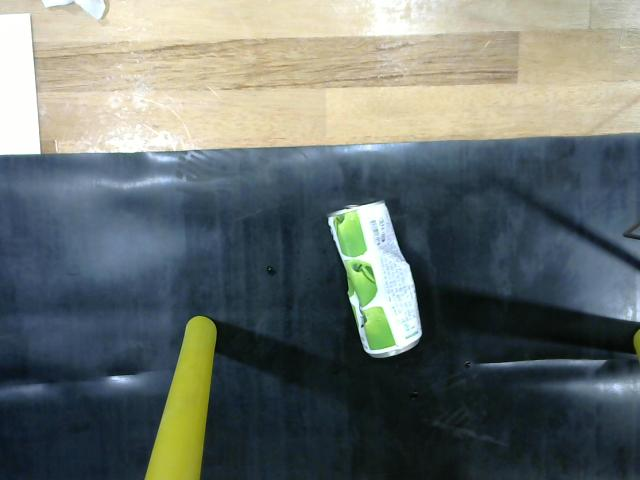can: (316, 187, 438, 367)
